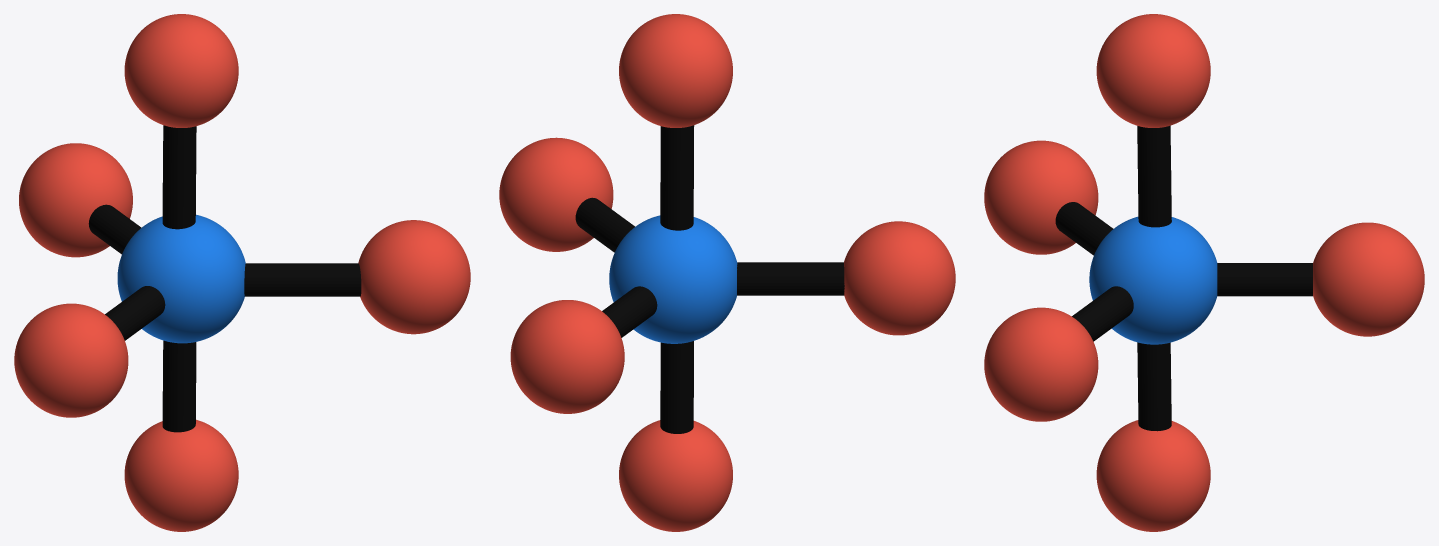
The model's file is chem stru(tbp).glb.
3 views of the same model, side by side, from view 1: azimuth 30°, elevation 25°; view 2: azimuth 150°, elevation 25°; view 3: azimuth 270°, elevation 25° (orthographic).
Visible parts, largest first — view 1: Sphere, Sphere.002, Sphere.004, Sphere.003, Sphere.005, Sphere.001, Cylinder.001, Cylinder.003, Cylinder.004, Cylinder.002, Cylinder; view 2: Sphere, Sphere.001, Sphere.004, Sphere.002, Sphere.005, Sphere.003, Cylinder.002, Cylinder.003, Cylinder.004, Cylinder.001, Cylinder; view 3: Sphere, Sphere.003, Sphere.004, Sphere.001, Sphere.005, Sphere.002, Cylinder.003, Cylinder, Cylinder.004, Cylinder.001, Cylinder.002.
Boxes of the visible parts, x1,y1,x2,y2 form: Sphere: (117, 214, 245, 343); Sphere.002: (14, 303, 128, 417); Sphere.004: (124, 14, 238, 127); Sphere.003: (358, 220, 470, 334); Sphere.005: (124, 419, 238, 531); Sphere.001: (19, 143, 132, 257); Cylinder.001: (244, 263, 361, 296); Cylinder.003: (162, 125, 196, 229); Cylinder.004: (162, 340, 196, 432); Cylinder.002: (105, 286, 165, 340); Cylinder: (88, 204, 141, 254); Sphere: (609, 215, 737, 343); Sphere.001: (510, 300, 624, 413); Sphere.004: (619, 14, 732, 127); Sphere.002: (844, 221, 955, 335); Sphere.005: (619, 420, 732, 531); Sphere.003: (499, 137, 613, 251); Cylinder.002: (737, 262, 844, 295); Cylinder.003: (660, 125, 694, 230); Cylinder.004: (660, 341, 693, 433); Cylinder.001: (575, 197, 634, 252); Cylinder: (602, 286, 657, 337); Sphere: (1089, 216, 1217, 344); Sphere.003: (984, 307, 1098, 421); Sphere.004: (1096, 14, 1210, 127); Sphere.001: (1313, 222, 1424, 336); Sphere.005: (1096, 420, 1210, 531); Sphere.002: (984, 140, 1098, 254); Cylinder.003: (1137, 125, 1171, 227); Cylinder: (1217, 263, 1312, 296); Cylinder.004: (1137, 342, 1171, 431); Cylinder.001: (1072, 286, 1133, 341); Cylinder.002: (1055, 202, 1113, 255).
Bounding box in the file's own units: 2.87 × 3.15 × 2.48.
